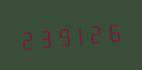nine: (54, 21, 71, 49)
one: (72, 19, 89, 48)
six: (108, 16, 125, 45)
three: (35, 23, 52, 51)
two: (17, 24, 34, 53), (90, 18, 107, 46)
